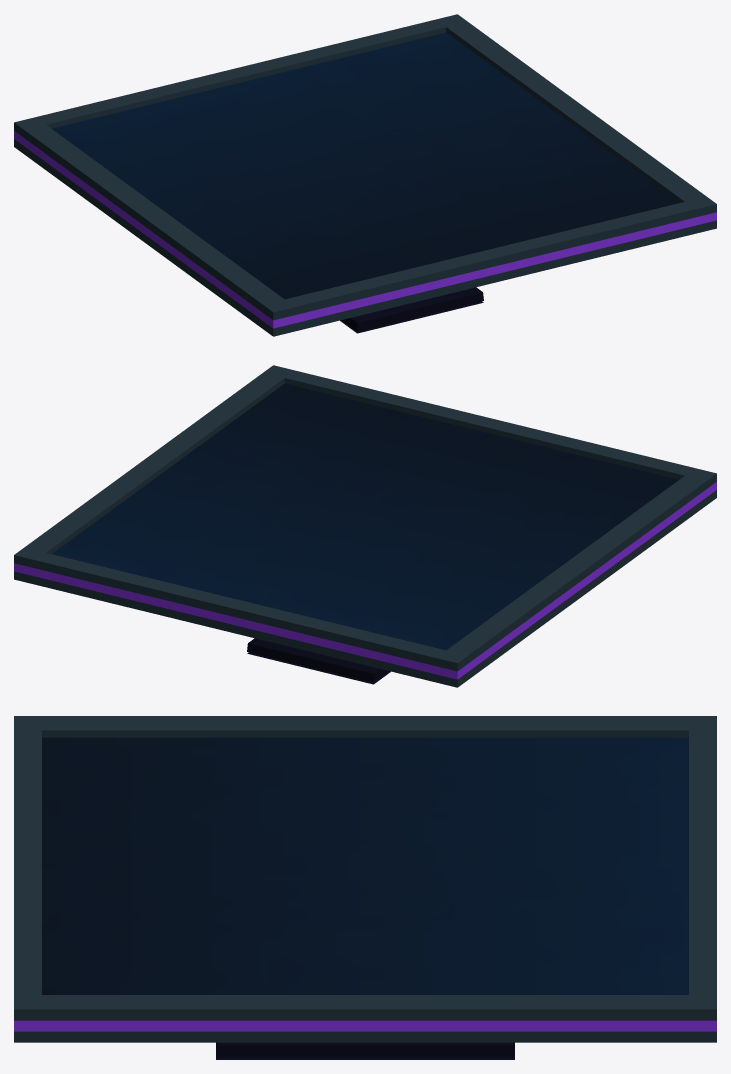
Rendered from RivenRoom_BattleStationTable.fbx.
3 renders of one model, top to bottom at view 1: azimuth 30°, elevation 25°; view 2: azimuth 150°, elevation 25°; view 3: azimuth 270°, elevation 25°, orthographic. The views are drawn at different scales.
Visible parts, largest first — view 1: Cube.117; view 2: Cube.117; view 3: Cube.117.
Boxes of the visible parts, x1,y1,x2,y2 form: Cube.117: (14,14,716,336); Cube.117: (14,365,716,687); Cube.117: (14,716,716,1059).
Size of the model in its own units: 163 by 40.14 by 165.
